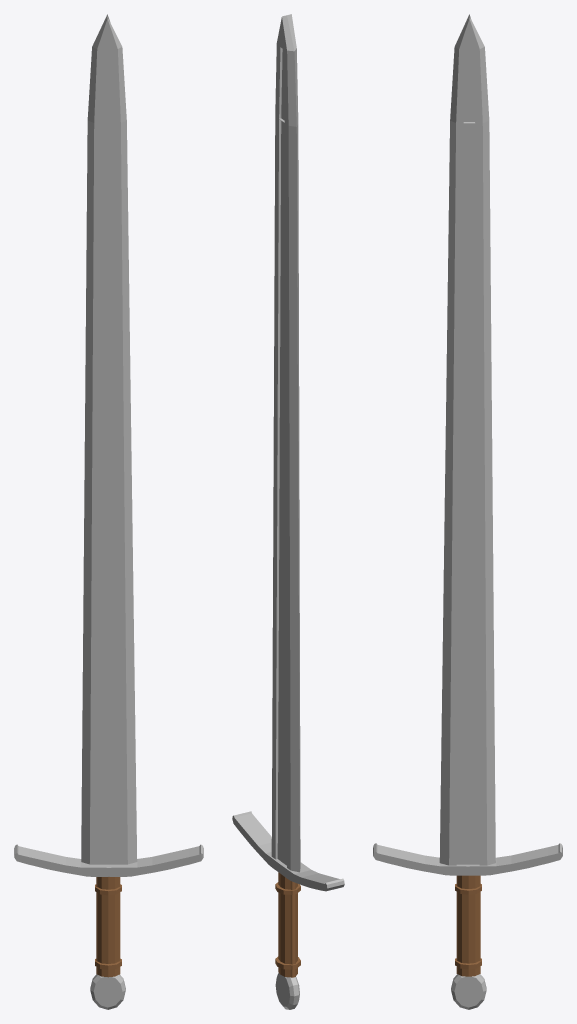
Rendered from Sword.fbx.
3 views of the same model, side by side, from view 1: azimuth 90°, elevation 25°; view 2: azimuth 210°, elevation 25°; view 3: azimuth 270°, elevation 25° (orthographic).
Parts seen in each view (by area): view 1: Cube.001; view 2: Cube.001; view 3: Cube.001.
Boxes of the visible parts, x1=… form: Cube.001: x1=14, y1=14, x2=203, y2=1009; Cube.001: x1=232, y1=14, x2=344, y2=1009; Cube.001: x1=373, y1=14, x2=562, y2=1009.
Bounding box in the file's own units: 7.37 × 328 × 56.79.
